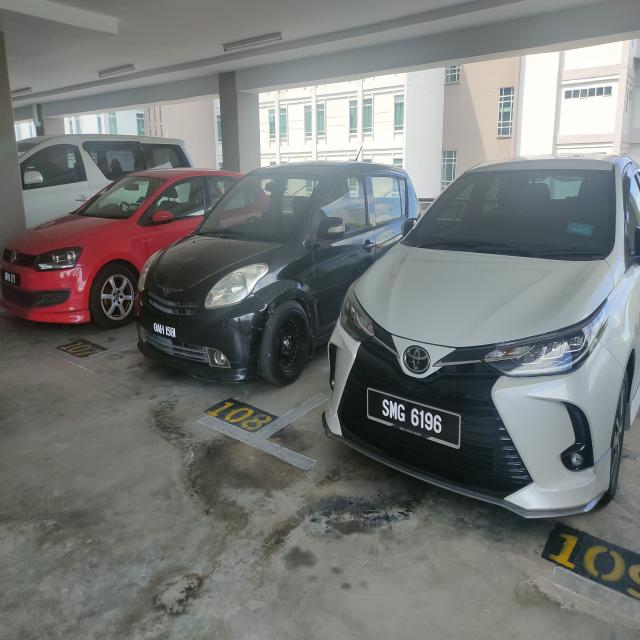PeroduaMyvi: (129, 142, 427, 400)
ToyotaVios: (320, 132, 640, 578)
